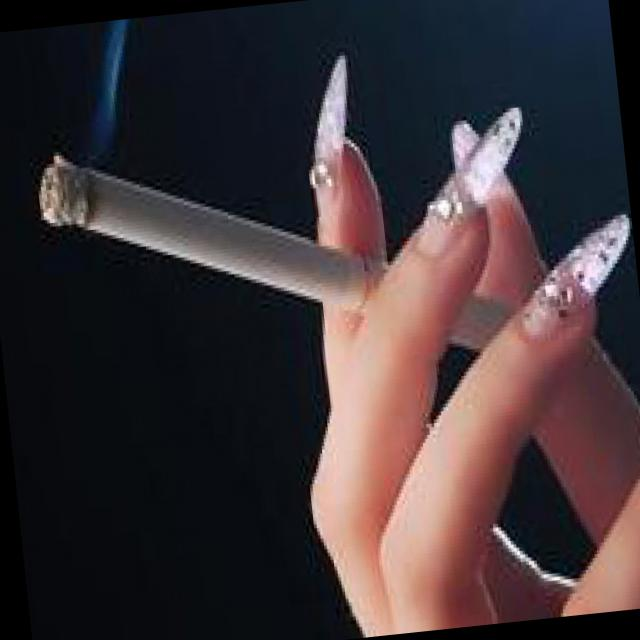cigarette: (27, 96, 320, 339)
